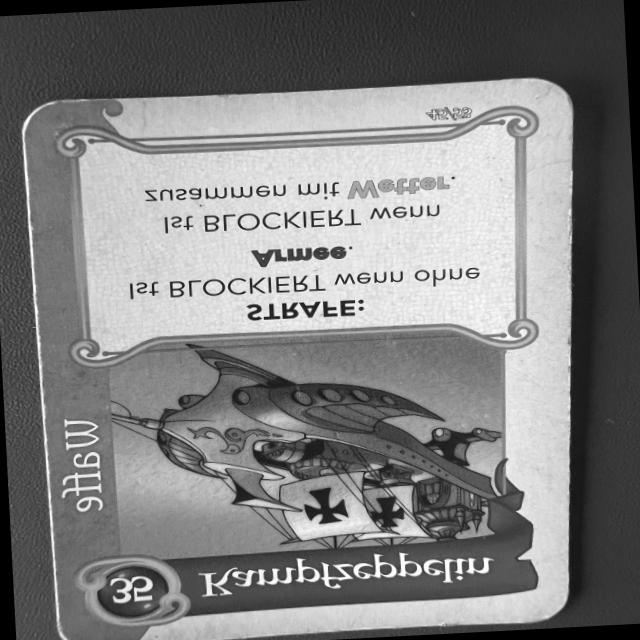War Dirigable: (14, 71, 578, 640)
